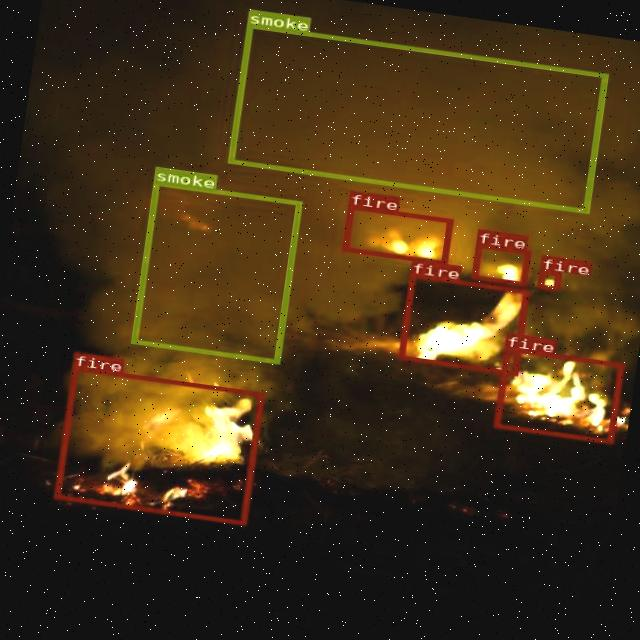fire: (53, 365, 263, 525), (397, 272, 528, 376), (493, 346, 623, 444), (341, 204, 452, 265), (471, 242, 530, 286), (536, 268, 560, 290)
smoke: (226, 22, 606, 212), (130, 181, 301, 363)
